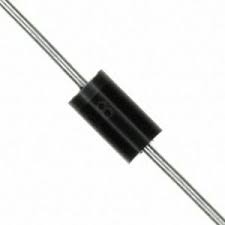diode: (52, 55, 172, 178)
